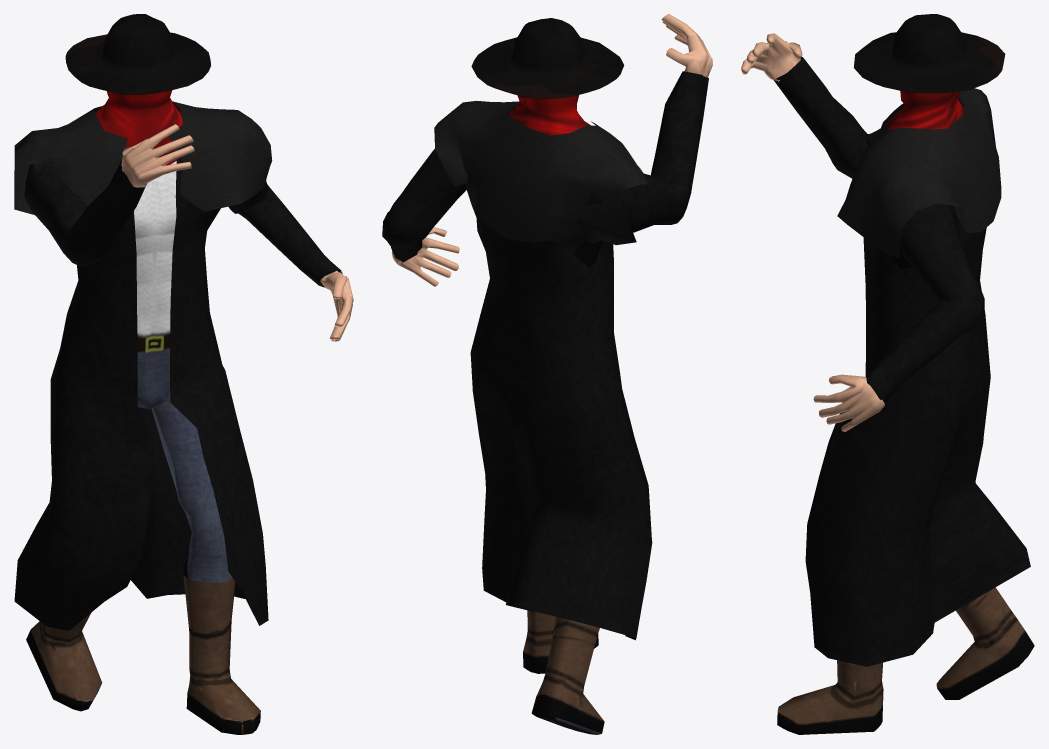
3 views of the same model, side by side, from view 1: azimuth 30°, elevation 25°; view 2: azimuth 150°, elevation 25°; view 3: azimuth 270°, elevation 25° (orthographic). The views are drawn at different scales.
Parts seen in each view (by area): view 1: Undertaker_Attack:Undertaker_4:Undertaker_4:Undertaker; view 2: Undertaker_Attack:Undertaker_4:Undertaker_4:Undertaker; view 3: Undertaker_Attack:Undertaker_4:Undertaker_4:Undertaker.
Part boxes in pixels (box(x1,y1,x2,y2)): Undertaker_Attack:Undertaker_4:Undertaker_4:Undertaker: box(14, 14, 353, 734); Undertaker_Attack:Undertaker_4:Undertaker_4:Undertaker: box(382, 14, 712, 734); Undertaker_Attack:Undertaker_4:Undertaker_4:Undertaker: box(741, 14, 1034, 734).
Bounding box in the file's own units: 1.29 × 2.9 × 1.1.
1 material, 1 textured.
